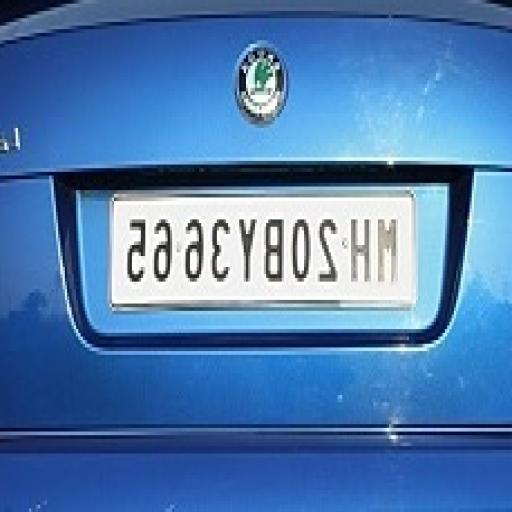License: (112, 187, 418, 307)
